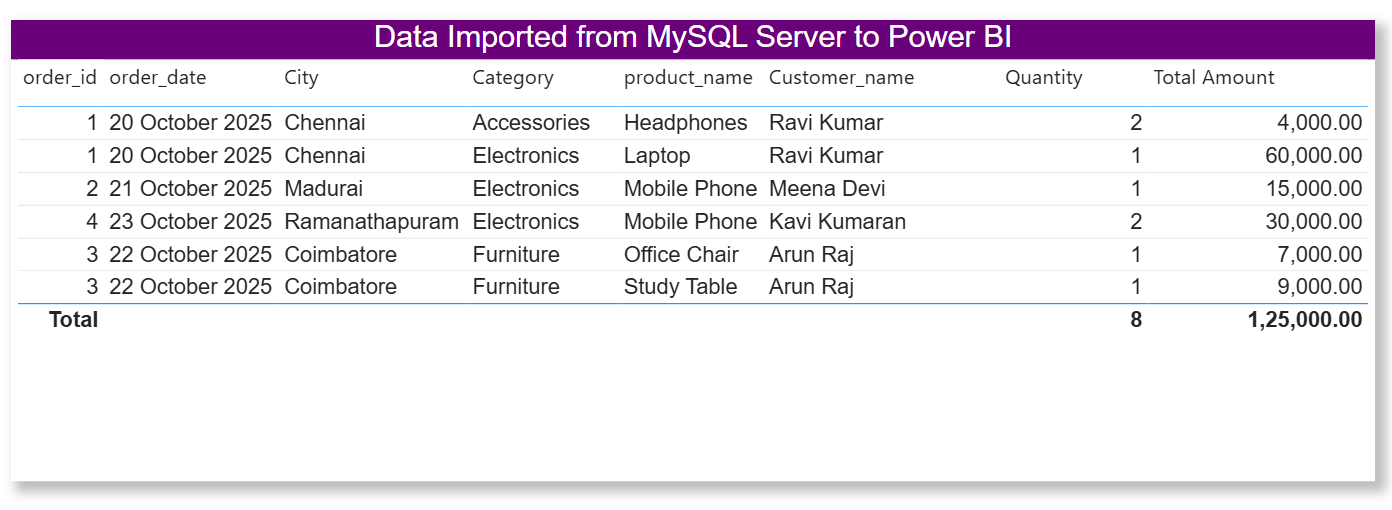

This screenshot's page, from the dashboard's own definition file:
{"tool":"powerbi","page":{"name":"Page 1","canvas":[1280,720],"ordinal":0},"visuals":[{"type":"tableEx","title":"Data Imported from MySQL Server to Power BI","fields":{"Values":["ecommerce_db Sales_report_View_Final.order_id","ecommerce_db Sales_report_View_Final.order_date","ecommerce_db Sales_report_View_Final.city","ecommerce_db Sales_report_View_Final.category","ecommerce_db Sales_report_View_Final.product_name","ecommerce_db Sales_report_View_Final.customer_name","Sum(ecommerce_db Sales_report_View_Final.quantity)","Sum(ecommerce_db Sales_report_View_Final.total_amount)"]},"box":[11.9,114.4,1248,421.8],"z":0}]}

Visuals, with their boxes on the page's 1280x720 design canvas (x1, y1, x2, y2). These are canvas units, not pixel positions in the 1392x510 screenshot, which may show the page scaled, cropped or inside an application window:
"Data Imported from MySQL Server to Power BI" tableEx: pyautogui.locateOnScreen(12, 114, 1260, 536)
